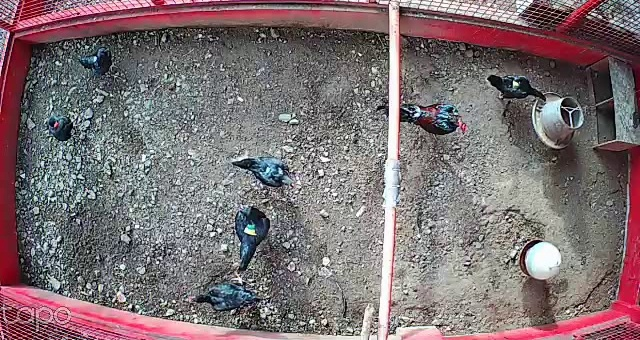Chicken: (182, 264, 281, 316), (231, 151, 298, 195), (233, 202, 272, 275), (486, 71, 547, 106), (44, 108, 83, 144)
Rooster: (376, 96, 471, 138)
Saddle_Color_Yellow: (512, 79, 521, 92)
Saddle_Color_YellowGreen: (241, 224, 259, 235)
